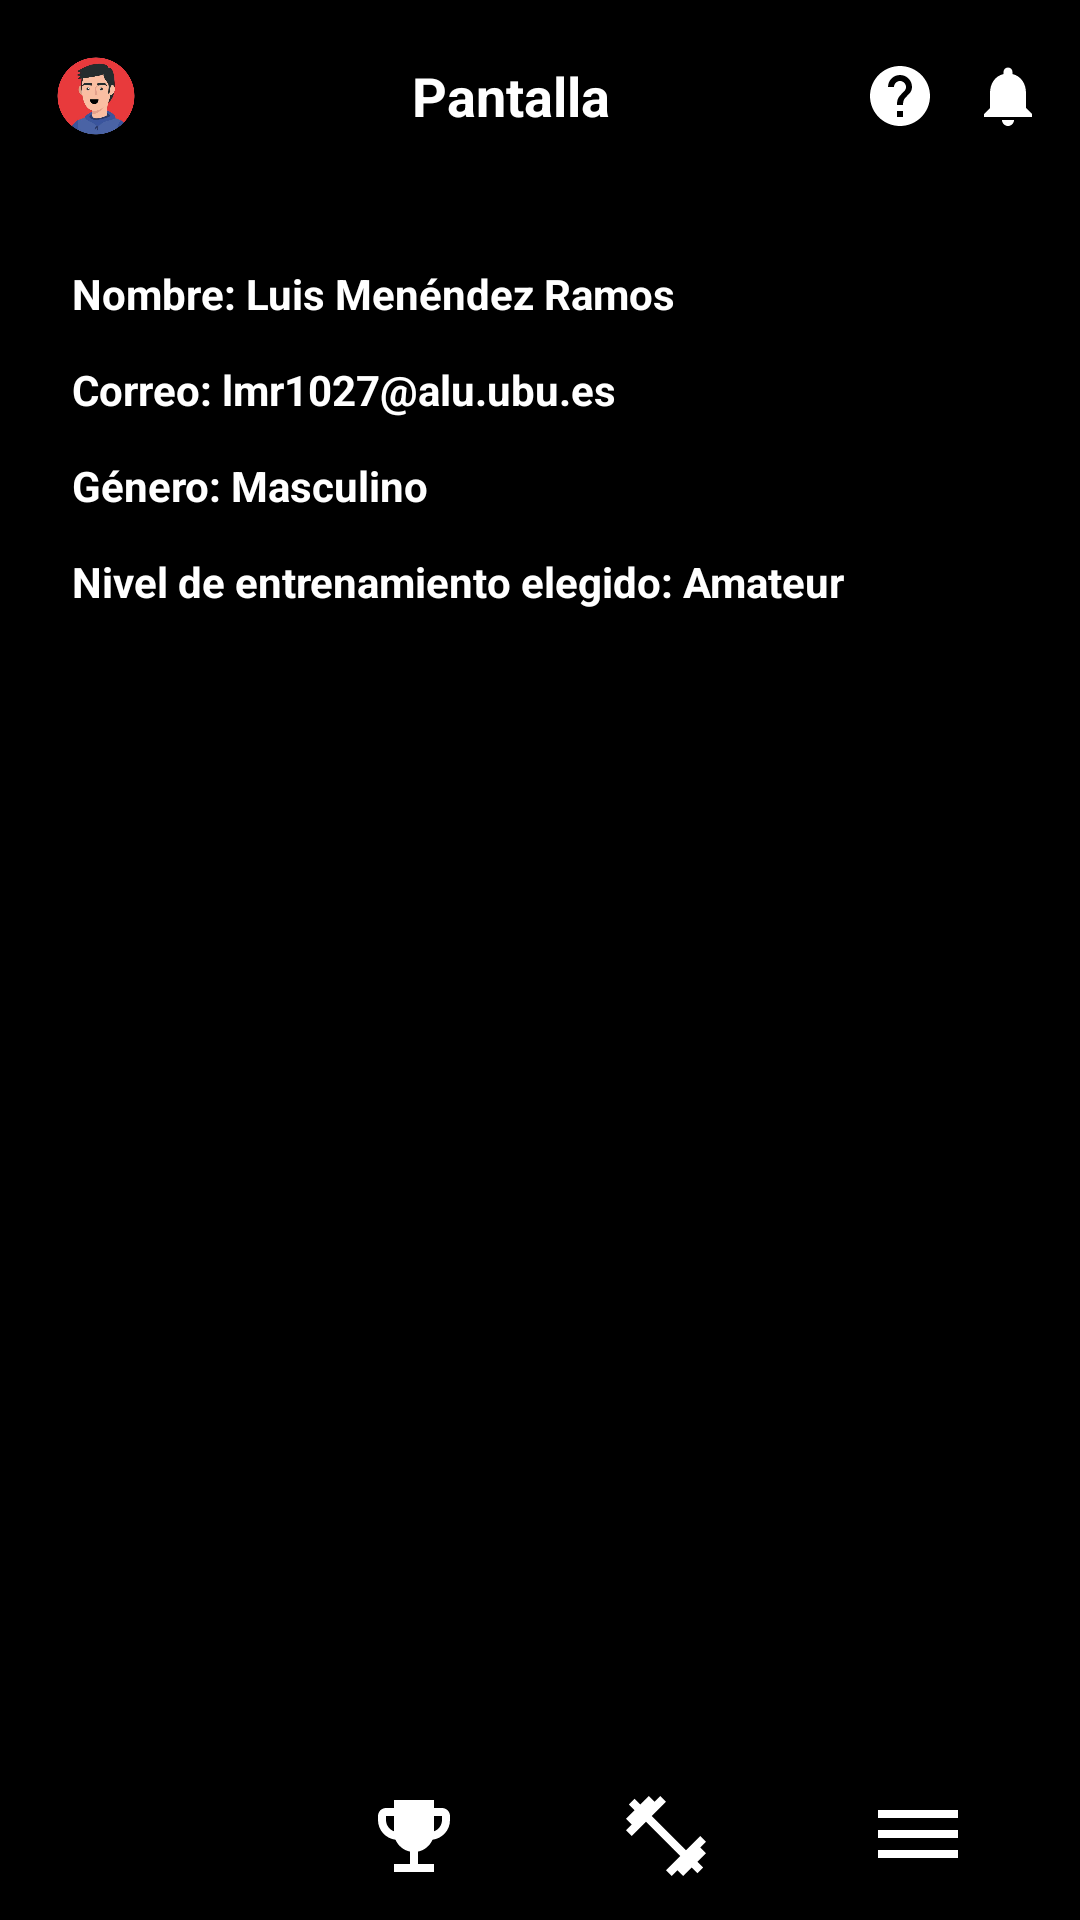

Where to tap for icons on this 1080px×1920px app screen, as (x=x, y=y):
Ayuda: (x=900, y=96)
Icono de entrenamiento: (x=666, y=1836)
Icono de logros: (x=414, y=1836)
Icono del menú: (x=918, y=1834)
Notificaciones: (x=1008, y=96)
